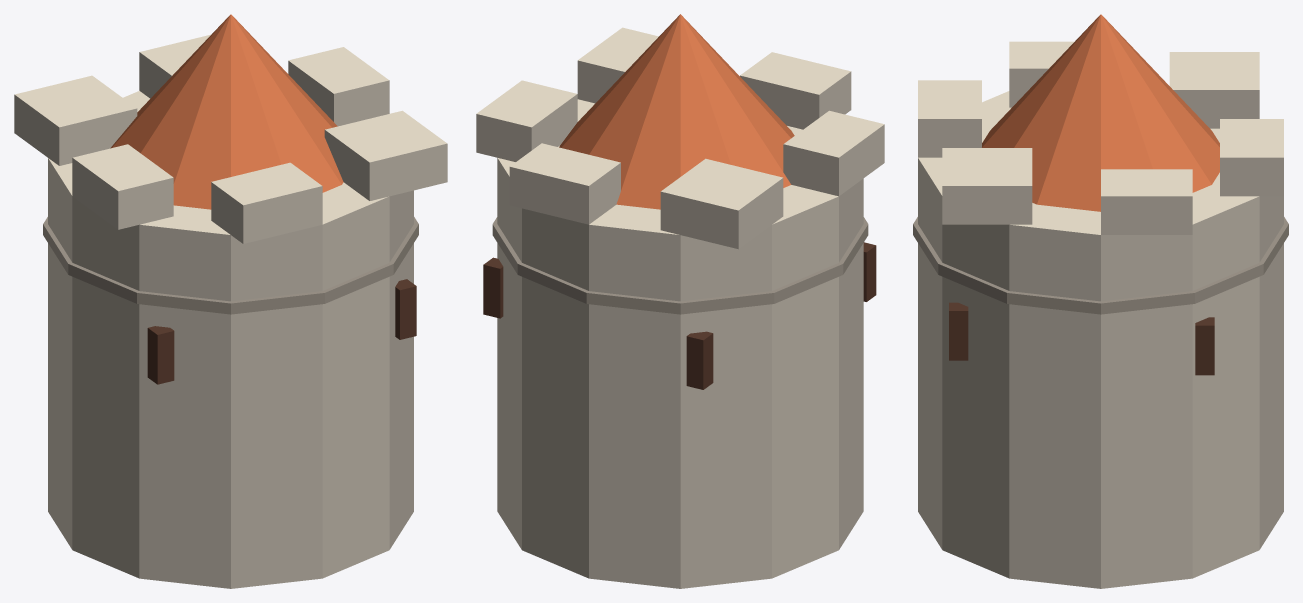
The model's file is W_WallTower.fbx.
The picture shows the model from 3 angles, left to right: view 1: azimuth 30°, elevation 25°; view 2: azimuth 150°, elevation 25°; view 3: azimuth 270°, elevation 25°; orthographic projection.
Parts seen in each view (by area): view 1: W_WallTower; view 2: W_WallTower; view 3: W_WallTower.
Boxes of the visible parts, x1=… form: W_WallTower: x1=14, y1=14, x2=447, y2=588; W_WallTower: x1=476, y1=14, x2=884, y2=588; W_WallTower: x1=913, y1=14, x2=1288, y2=588.
Size of the model in its own units: 3.08 by 4.5 by 3.08.
